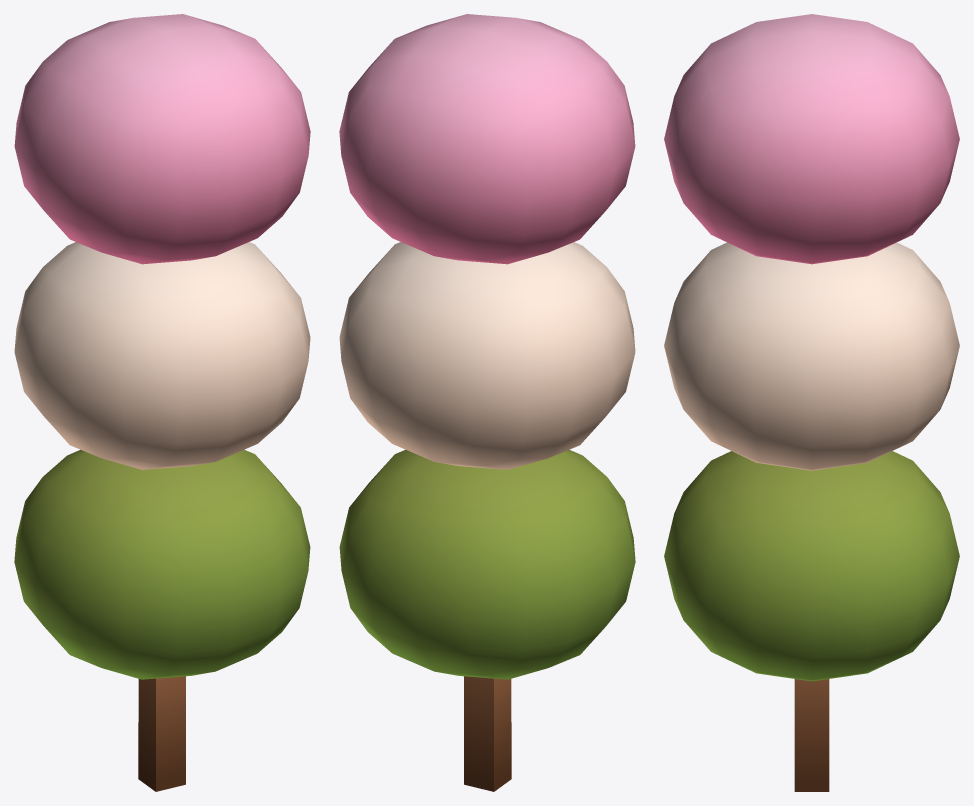
File: lpb_food_mochi.fbx
3 views of the same model, side by side, from view 1: azimuth 30°, elevation 25°; view 2: azimuth 150°, elevation 25°; view 3: azimuth 270°, elevation 25° (orthographic).
Parts seen in each view (by area): view 1: mochi; view 2: mochi; view 3: mochi.
Boxes of the visible parts, left/top/right/bottom form: mochi: left=14, top=14, right=310, bottom=791; mochi: left=339, top=14, right=635, bottom=791; mochi: left=664, top=14, right=959, bottom=791.
Size of the model in its own units: 15.99 by 44.87 by 15.97.
